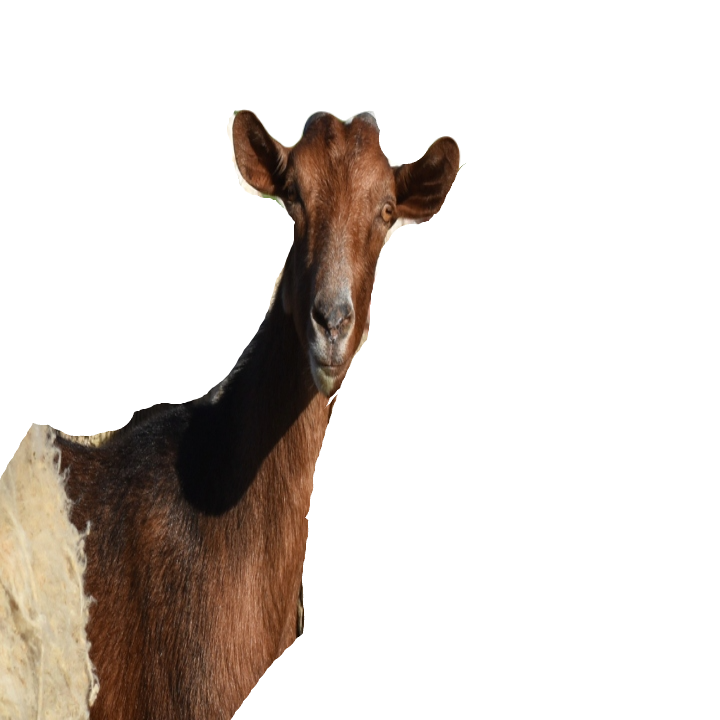Sheep: (93, 106, 464, 719)
